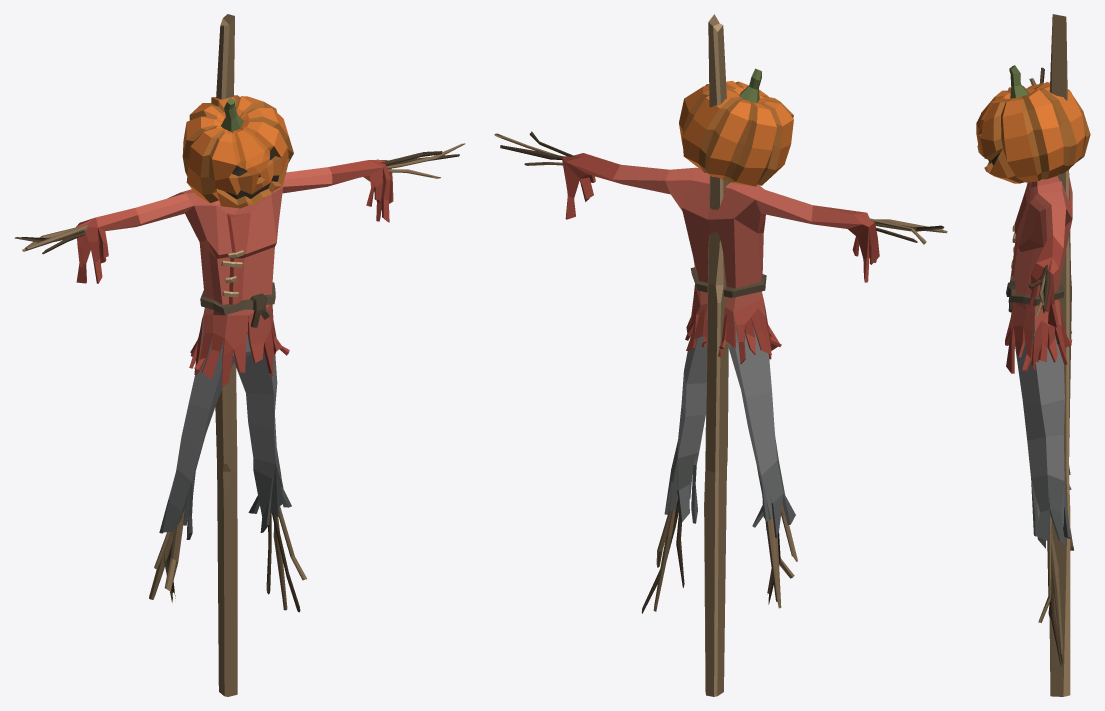
File: WF_LP_HT_Props_Scarecrow.001.fbx
3 views of the same model, side by side, from view 1: azimuth 30°, elevation 25°; view 2: azimuth 150°, elevation 25°; view 3: azimuth 270°, elevation 25° (orthographic).
Parts seen in each view (by area): view 1: WF_LP_HT_Props_Scarecrow.001; view 2: WF_LP_HT_Props_Scarecrow.001; view 3: WF_LP_HT_Props_Scarecrow.001.
Part boxes in pixels (<box>): WF_LP_HT_Props_Scarecrow.001: <box>14,14,465,696</box>; WF_LP_HT_Props_Scarecrow.001: <box>494,14,947,696</box>; WF_LP_HT_Props_Scarecrow.001: <box>976,14,1090,696</box>.
Bounding box in the file's own units: 1.73 × 2.49 × 0.3774.
